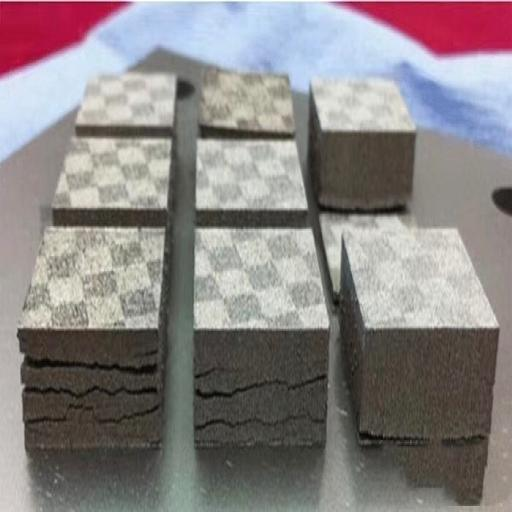cracks: (21, 343, 171, 452), (184, 364, 323, 432)
